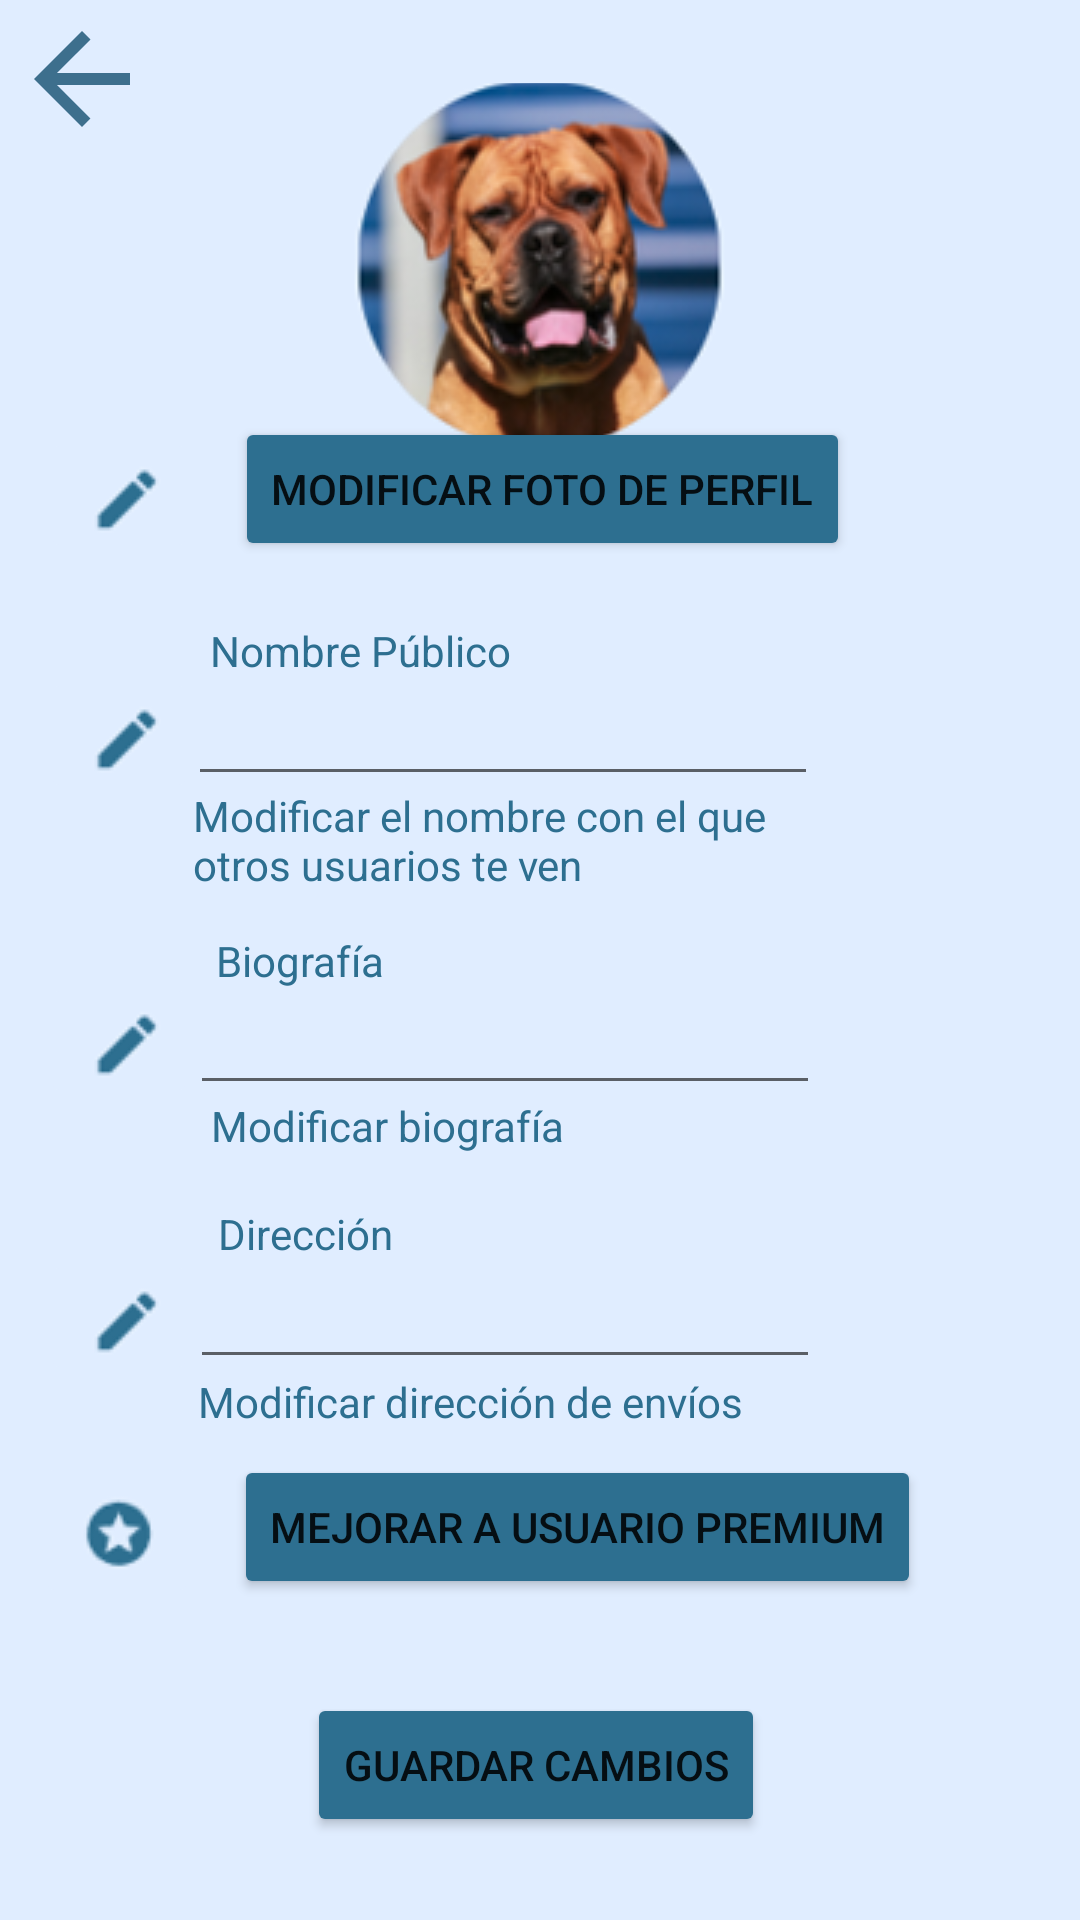

Icons on this 1080px x 1920px Android screen, each with the point to tap as (x=x, y=y):
arrow back: (x=82, y=79)
lapid: (x=126, y=500), (x=126, y=740), (x=126, y=1045), (x=126, y=1322)
star: (x=118, y=1533)
